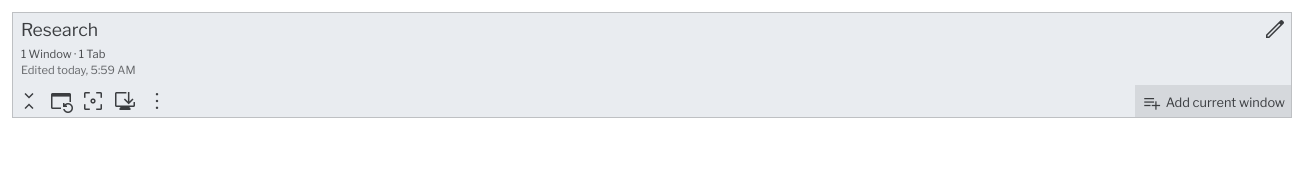
Scenario: finishing a session rename › Esc and IME in the title field (KAN-408) › a blur in the same batch as the Esc commits nothing
Click the button with aria-label "Rename session: Research" at (60, 29), box [13, 13, 106, 45]
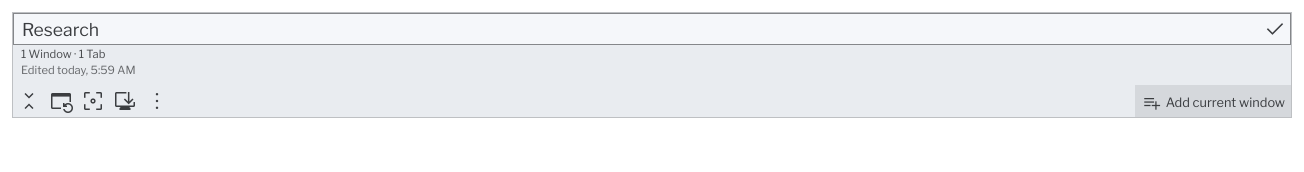
Type " notes" into the field at (652, 29), box [13, 13, 1291, 45]
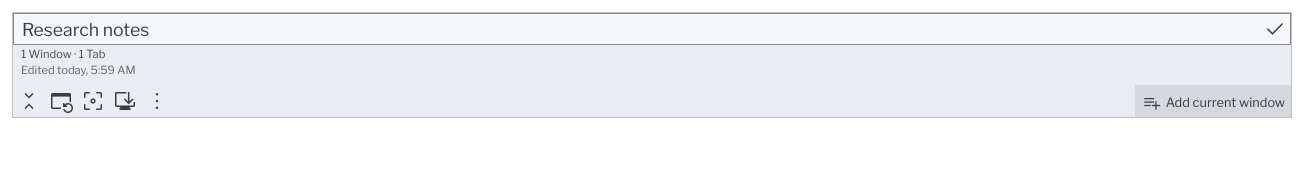
Press Escape in the field, box [13, 13, 1291, 45]
Leave the field, box [13, 13, 1291, 45]
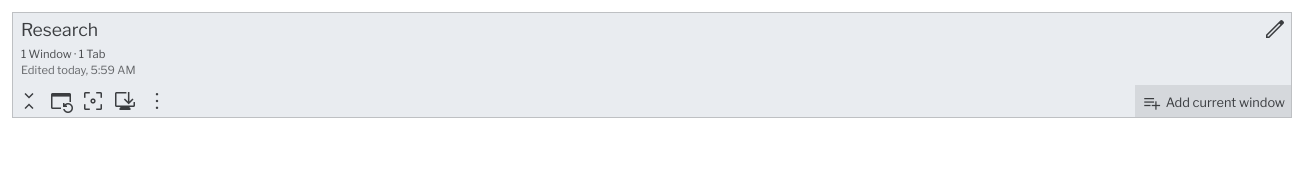
Result: the field is gone
Result: the text "Research" is shown at [21, 18, 98, 40]
